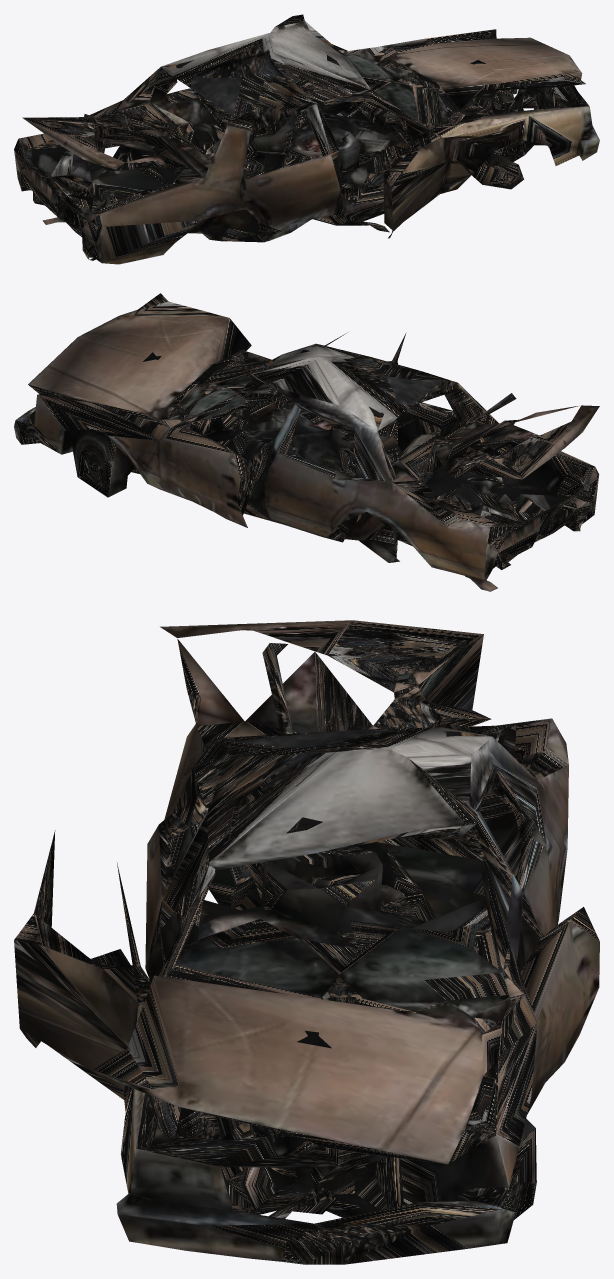
The model's file is wreck-sedan.lod0.glb.
3 views of the same model, one above another, from view 1: azimuth 30°, elevation 25°; view 2: azimuth 150°, elevation 25°; view 3: azimuth 270°, elevation 25° (orthographic). The views are drawn at different scales.
Parts seen in each view (by area): view 1: Box001_caprice_low_Material_u1_v1_0; view 2: Box001_caprice_low_Material_u1_v1_0; view 3: Box001_caprice_low_Material_u1_v1_0.
Part boxes in pixels (x1,y1,x2,y2): Box001_caprice_low_Material_u1_v1_0: (14,14,599,264); Box001_caprice_low_Material_u1_v1_0: (14,293,599,591); Box001_caprice_low_Material_u1_v1_0: (14,620,599,1264).
Size of the model in its own units: 5.14 by 1.58 by 2.68.
Materials: 1 (1 with a texture image).
